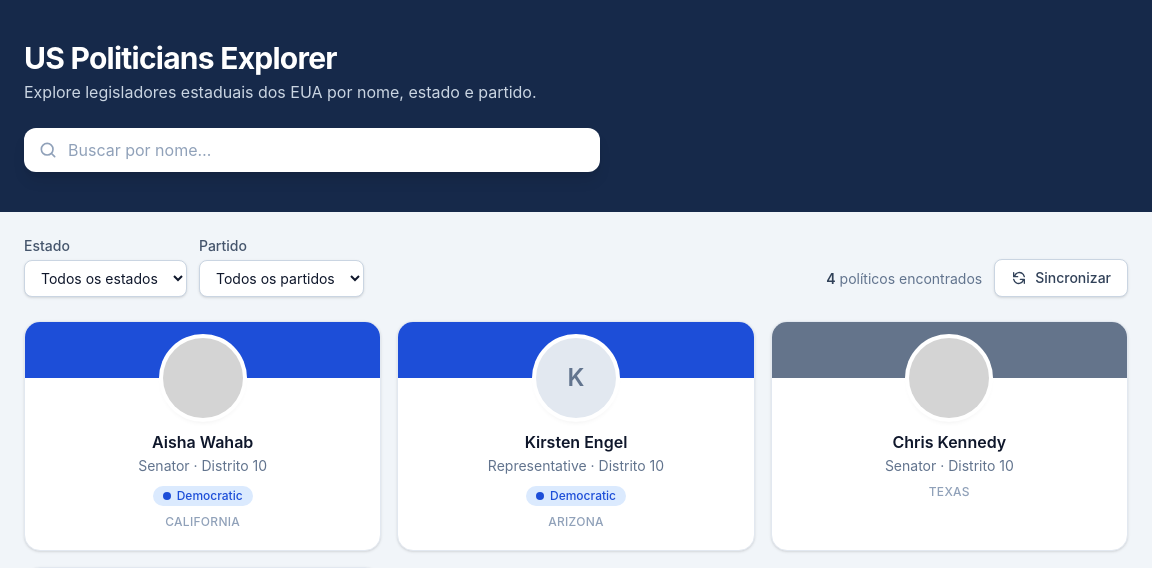
Test case: PoliticosPage › mostra o contador de resultados e o atualiza ao filtrar
Expected: the text "4 políticos encontrados" is shown, 826,269 -> 982,297
Select "California" in the dropdown labelled "Estado": (106, 278) 24,260 -> 187,297
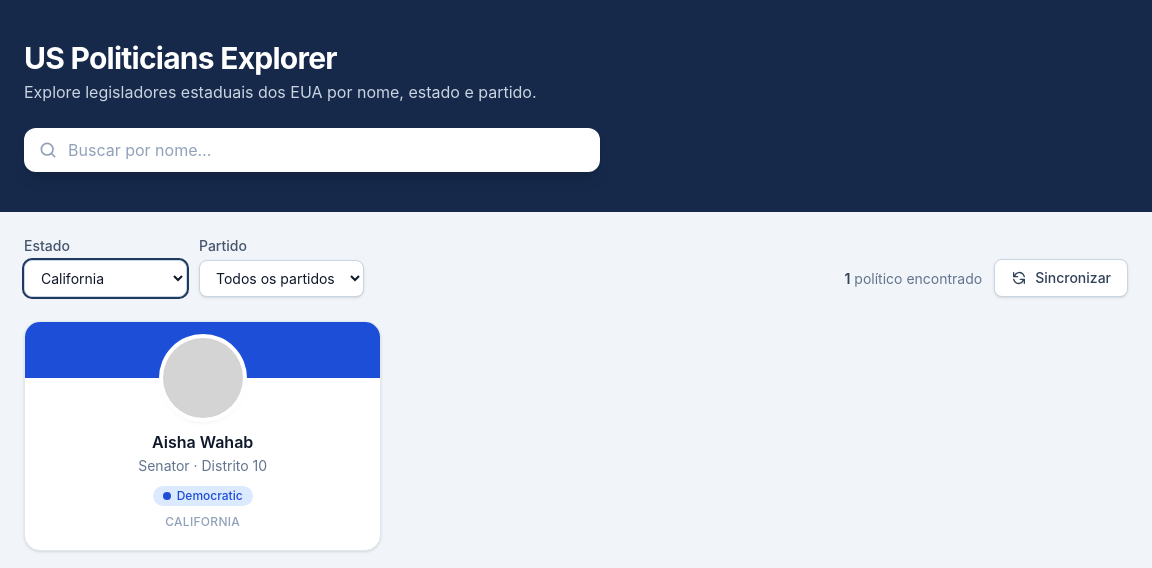
Expected: the text "1 político encontrado" is shown, 844,269 -> 982,297
